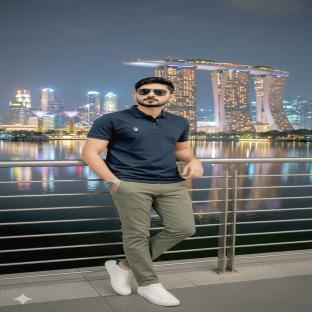Human: (82, 77, 203, 306)
